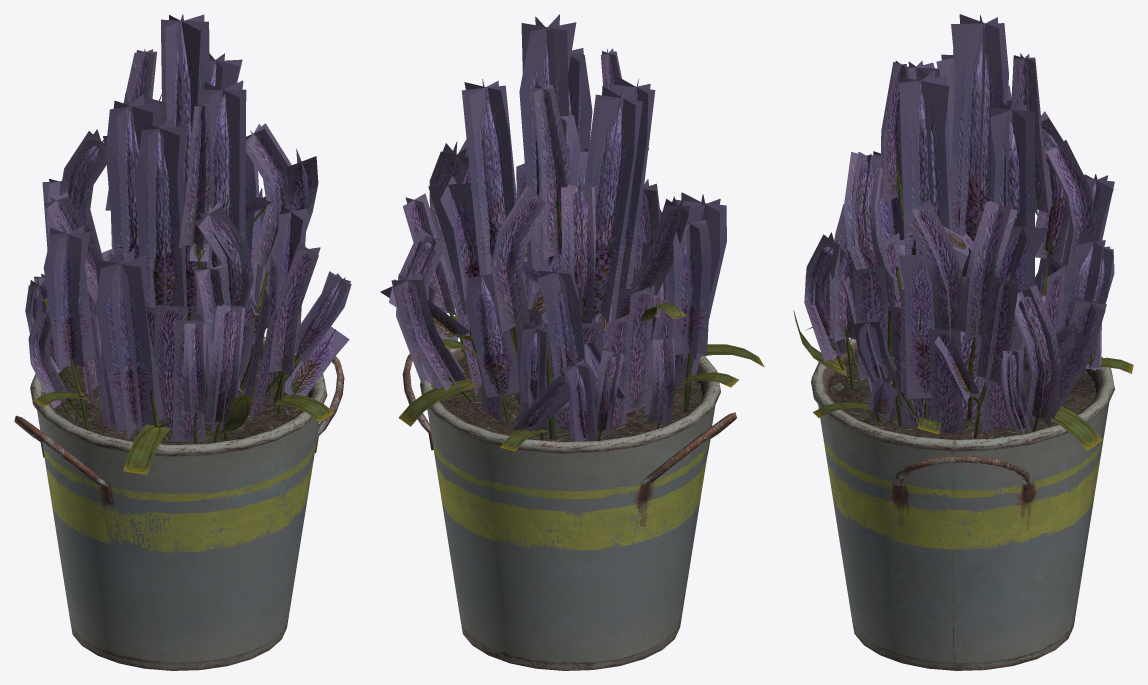
The model's file is 003_Blue_Herb.fbx.
3 views of the same model, side by side, from view 1: azimuth 30°, elevation 25°; view 2: azimuth 150°, elevation 25°; view 3: azimuth 270°, elevation 25° (orthographic). The views are drawn at different scales.
Parts seen in each view (by area): view 1: LOD_1_Group_3_Sub_1__sm70_003_BlueHerb01A_A_Mat__Env_AlphaTe, LOD_1_Group_2_Sub_1__sm70_002_RedHerb01A_B_Mat__Env_Default, LOD_1_Group_0_Sub_1__sm70_002_RedHerb01A_B_Mat__Env_Default, LOD_1_Group_1_Sub_1__sm70_002_RedHerb01A_B_Mat__Env_Default; view 2: LOD_1_Group_3_Sub_1__sm70_003_BlueHerb01A_A_Mat__Env_AlphaTe, LOD_1_Group_2_Sub_1__sm70_002_RedHerb01A_B_Mat__Env_Default, LOD_1_Group_0_Sub_1__sm70_002_RedHerb01A_B_Mat__Env_Default, LOD_1_Group_1_Sub_1__sm70_002_RedHerb01A_B_Mat__Env_Default; view 3: LOD_1_Group_3_Sub_1__sm70_003_BlueHerb01A_A_Mat__Env_AlphaTe, LOD_1_Group_2_Sub_1__sm70_002_RedHerb01A_B_Mat__Env_Default, LOD_1_Group_0_Sub_1__sm70_002_RedHerb01A_B_Mat__Env_Default, LOD_1_Group_1_Sub_1__sm70_002_RedHerb01A_B_Mat__Env_Default.
Boxes of the visible parts, x1,y1,x2,y2 form: LOD_1_Group_3_Sub_1__sm70_003_BlueHerb01A_A_Mat__Env_AlphaTe: (25, 14, 351, 474); LOD_1_Group_2_Sub_1__sm70_002_RedHerb01A_B_Mat__Env_Default: (30, 336, 327, 670); LOD_1_Group_0_Sub_1__sm70_002_RedHerb01A_B_Mat__Env_Default: (50, 353, 308, 444); LOD_1_Group_1_Sub_1__sm70_002_RedHerb01A_B_Mat__Env_Default: (14, 356, 344, 503); LOD_1_Group_3_Sub_1__sm70_003_BlueHerb01A_A_Mat__Env_AlphaTe: (380, 14, 764, 451); LOD_1_Group_2_Sub_1__sm70_002_RedHerb01A_B_Mat__Env_Default: (420, 341, 720, 670); LOD_1_Group_0_Sub_1__sm70_002_RedHerb01A_B_Mat__Env_Default: (440, 357, 702, 442); LOD_1_Group_1_Sub_1__sm70_002_RedHerb01A_B_Mat__Env_Default: (402, 354, 736, 501); LOD_1_Group_3_Sub_1__sm70_003_BlueHerb01A_A_Mat__Env_AlphaTe: (793, 14, 1133, 451); LOD_1_Group_2_Sub_1__sm70_002_RedHerb01A_B_Mat__Env_Default: (811, 338, 1114, 670); LOD_1_Group_0_Sub_1__sm70_002_RedHerb01A_B_Mat__Env_Default: (829, 358, 1096, 439); LOD_1_Group_1_Sub_1__sm70_002_RedHerb01A_B_Mat__Env_Default: (893, 456, 1032, 502).
Bounding box in the file's own units: 0.2936 × 0.5431 × 0.2755.
